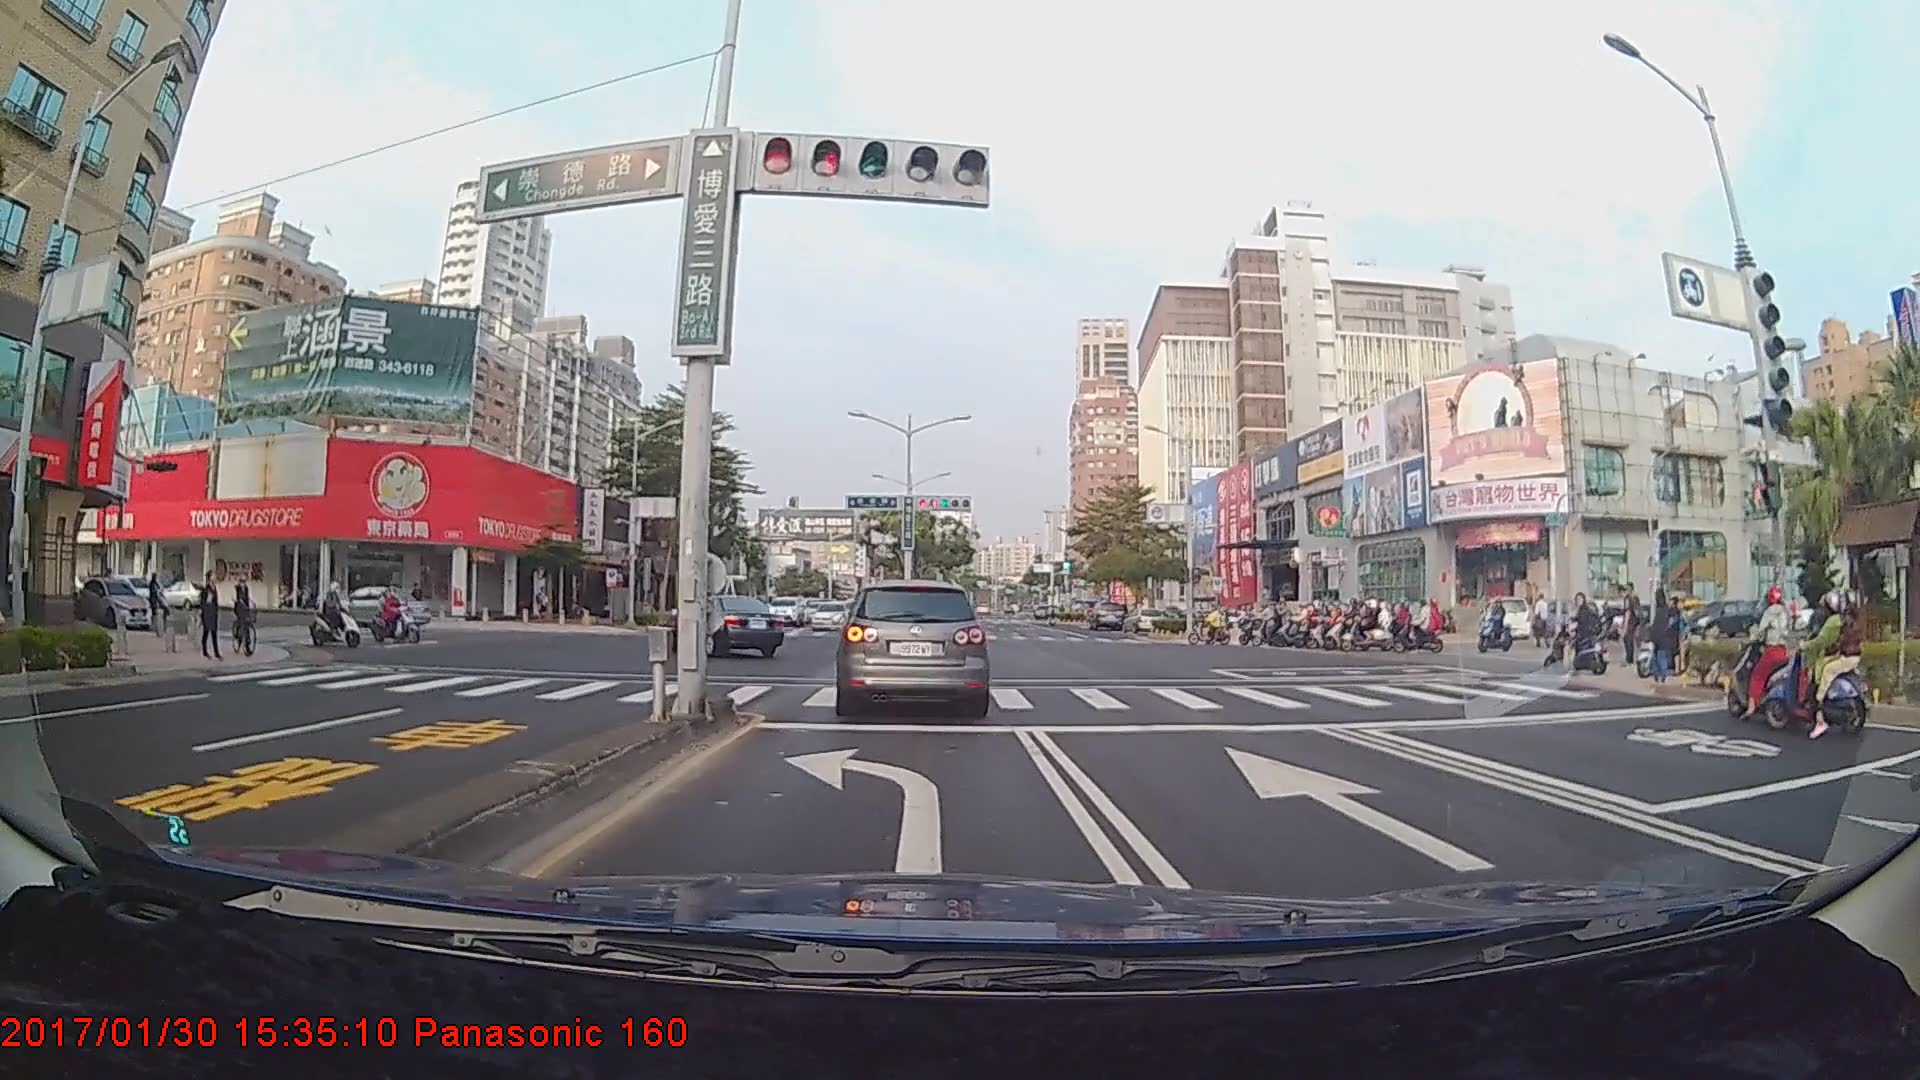pedestrian: (1645, 577, 1679, 692), (201, 572, 221, 662), (1624, 580, 1646, 667)
rider: (1761, 594, 1867, 744), (1726, 584, 1819, 727), (1542, 598, 1615, 674), (1633, 587, 1688, 683), (303, 576, 364, 650), (358, 578, 420, 640), (227, 566, 266, 653), (1397, 593, 1442, 655), (1468, 596, 1516, 652), (1347, 598, 1392, 650), (1231, 595, 1279, 641), (1185, 607, 1235, 647), (1318, 597, 1357, 643), (1300, 602, 1342, 645), (1309, 600, 1346, 644)
vehicle: (831, 568, 991, 708), (663, 592, 784, 657), (323, 583, 423, 628), (1087, 600, 1126, 631)
